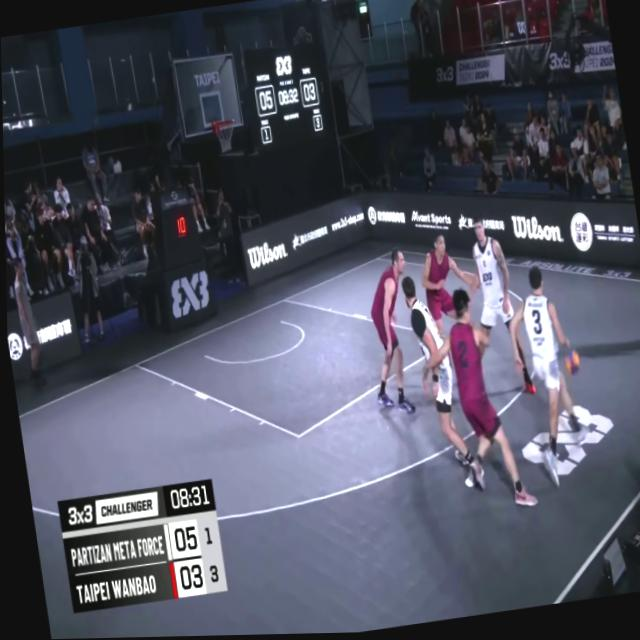ball: (560, 346, 581, 382)
hoop: (208, 114, 238, 163)
player: (418, 282, 534, 524), (498, 255, 596, 490), (399, 274, 474, 492), (354, 246, 429, 422), (458, 221, 527, 400), (415, 233, 484, 353)
